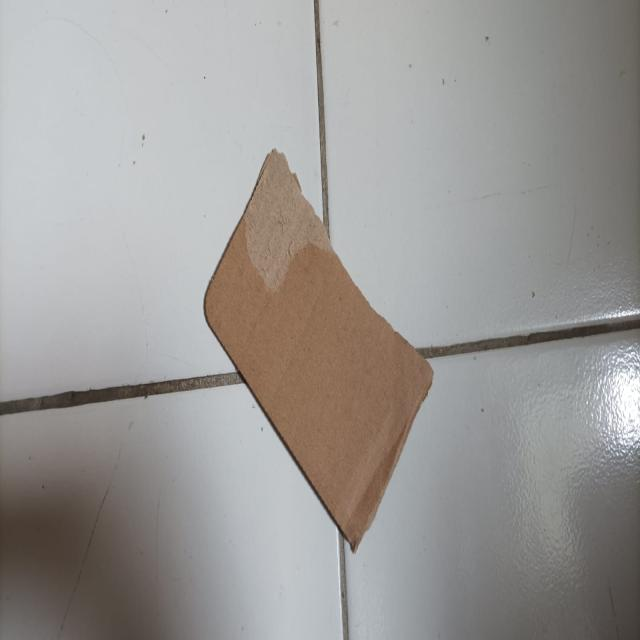Organik: (206, 152, 435, 550)
